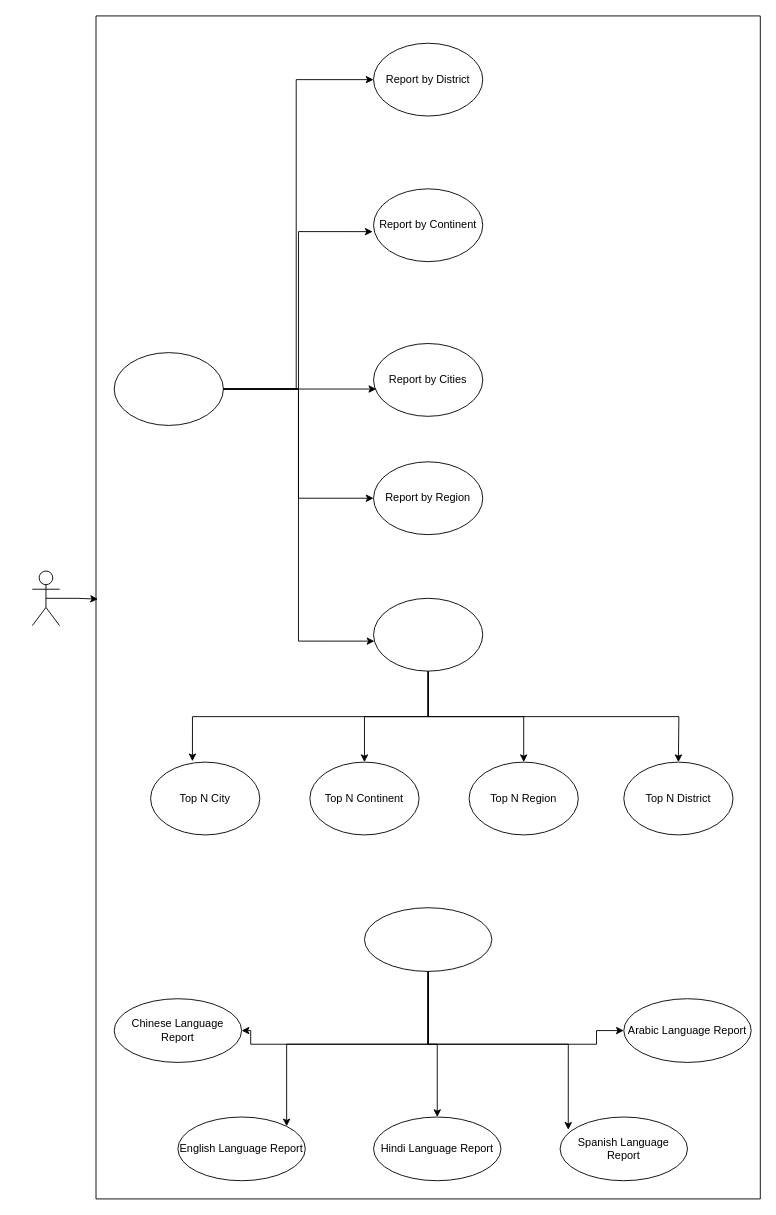
Image size: 776x1215. Some labels were removed from this diagram. Here are the shapes that lost their labels. From the top down, the centre of each, then its label:
At [168,388]: "View World Population Report".
At [45,598]: "Data Analyst".
At [428,634]: "Top N".
At [428,939]: "View language statistics".
